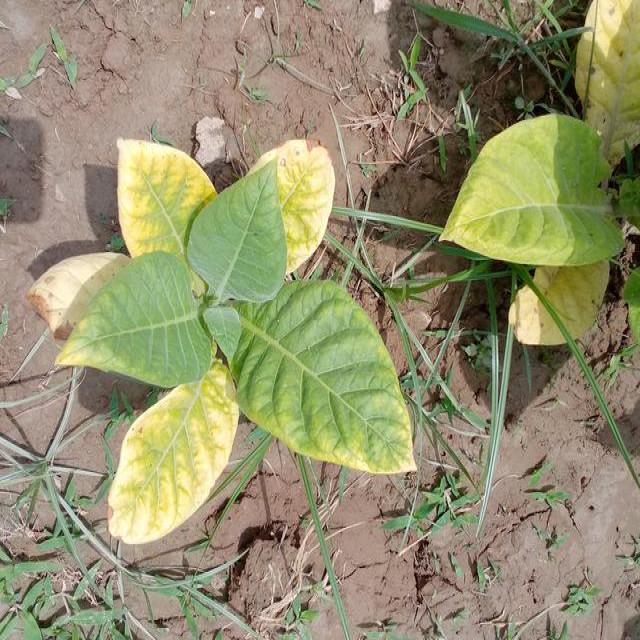crop: (27, 134, 420, 542), (434, 2, 640, 356)
